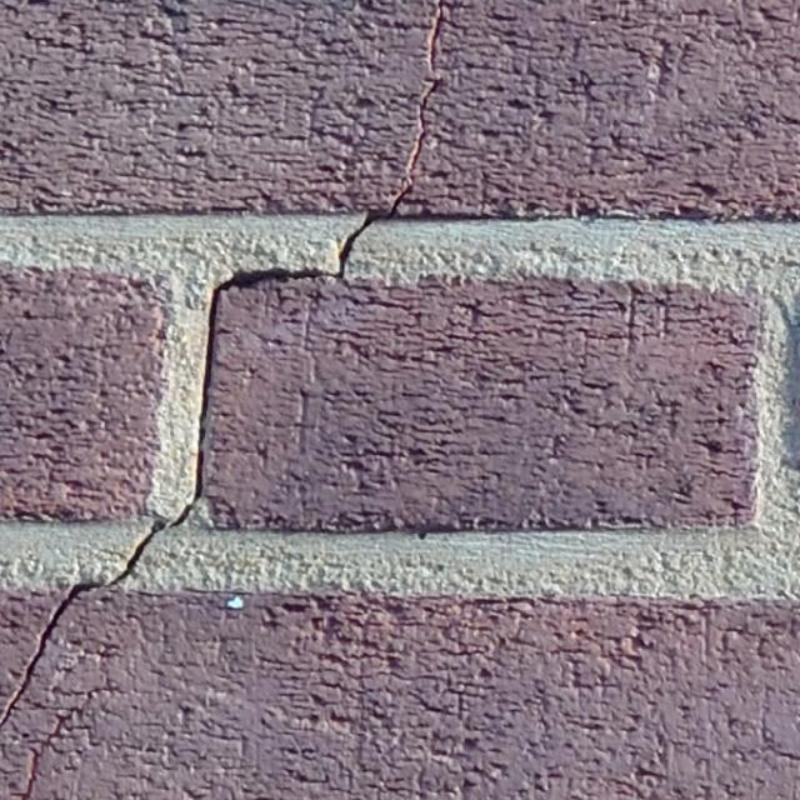crack: (0, 448, 205, 724), (334, 0, 445, 277), (198, 264, 318, 443), (20, 686, 125, 799)
